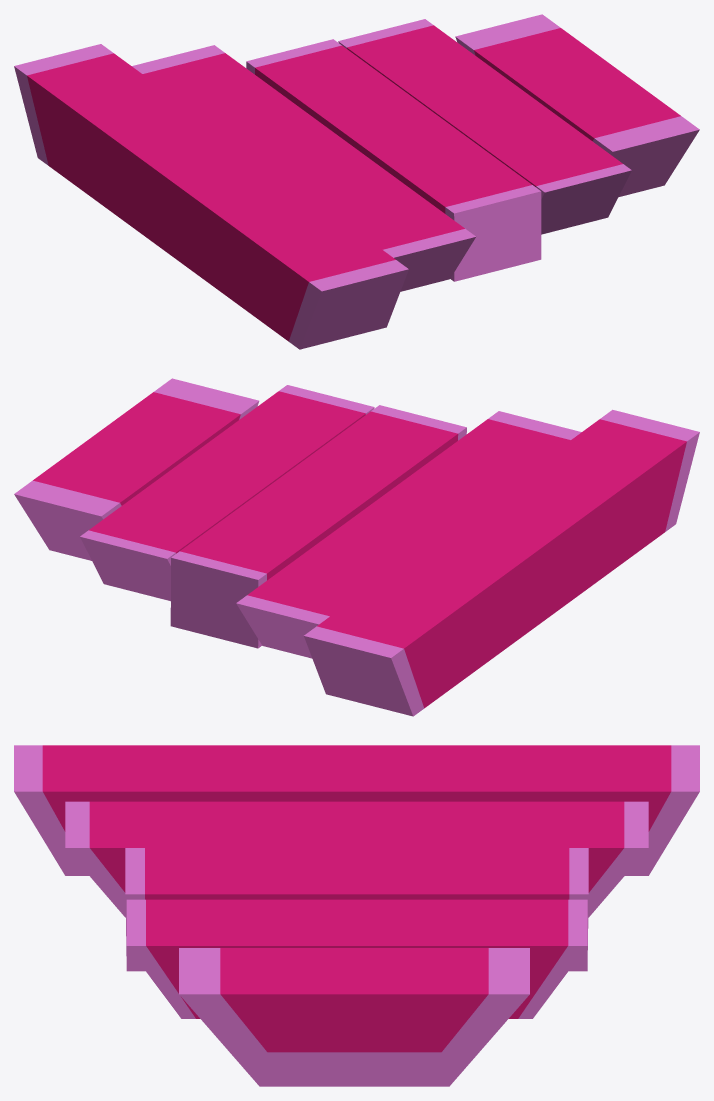
Rendered from GravityMeat_FryingPan_NotReady.fbx.
The picture shows the model from 3 angles, top to bottom: view 1: azimuth 30°, elevation 25°; view 2: azimuth 150°, elevation 25°; view 3: azimuth 270°, elevation 25°; orthographic projection. The views are drawn at different scales.
Parts seen in each view (by area): view 1: GravityMeat_FryingPan_NotReady; view 2: GravityMeat_FryingPan_NotReady; view 3: GravityMeat_FryingPan_NotReady.
Boxes of the visible parts, <box> form: GravityMeat_FryingPan_NotReady: <box>14,14,699,349</box>; GravityMeat_FryingPan_NotReady: <box>14,378,699,716</box>; GravityMeat_FryingPan_NotReady: <box>14,745,699,1086</box>.
Bounding box in the file's own units: 29.38 × 34.59 × 5.41.
